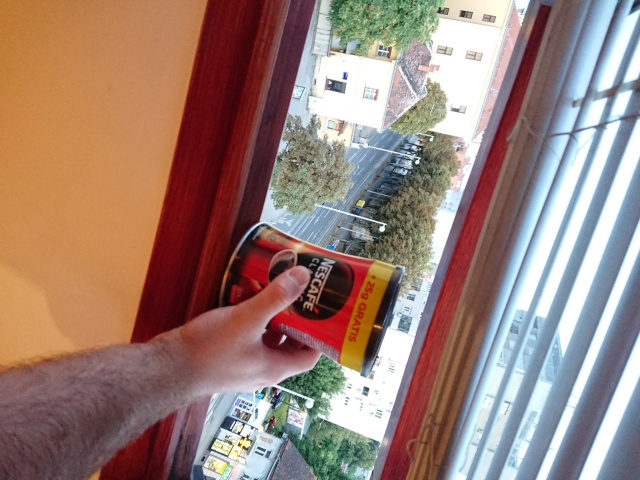Nescafe Classic 225g: (215, 219, 408, 380)
